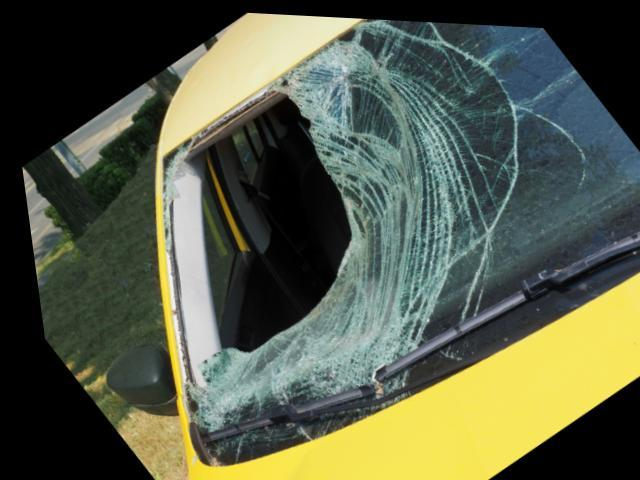glass shatter: (158, 15, 640, 464)
